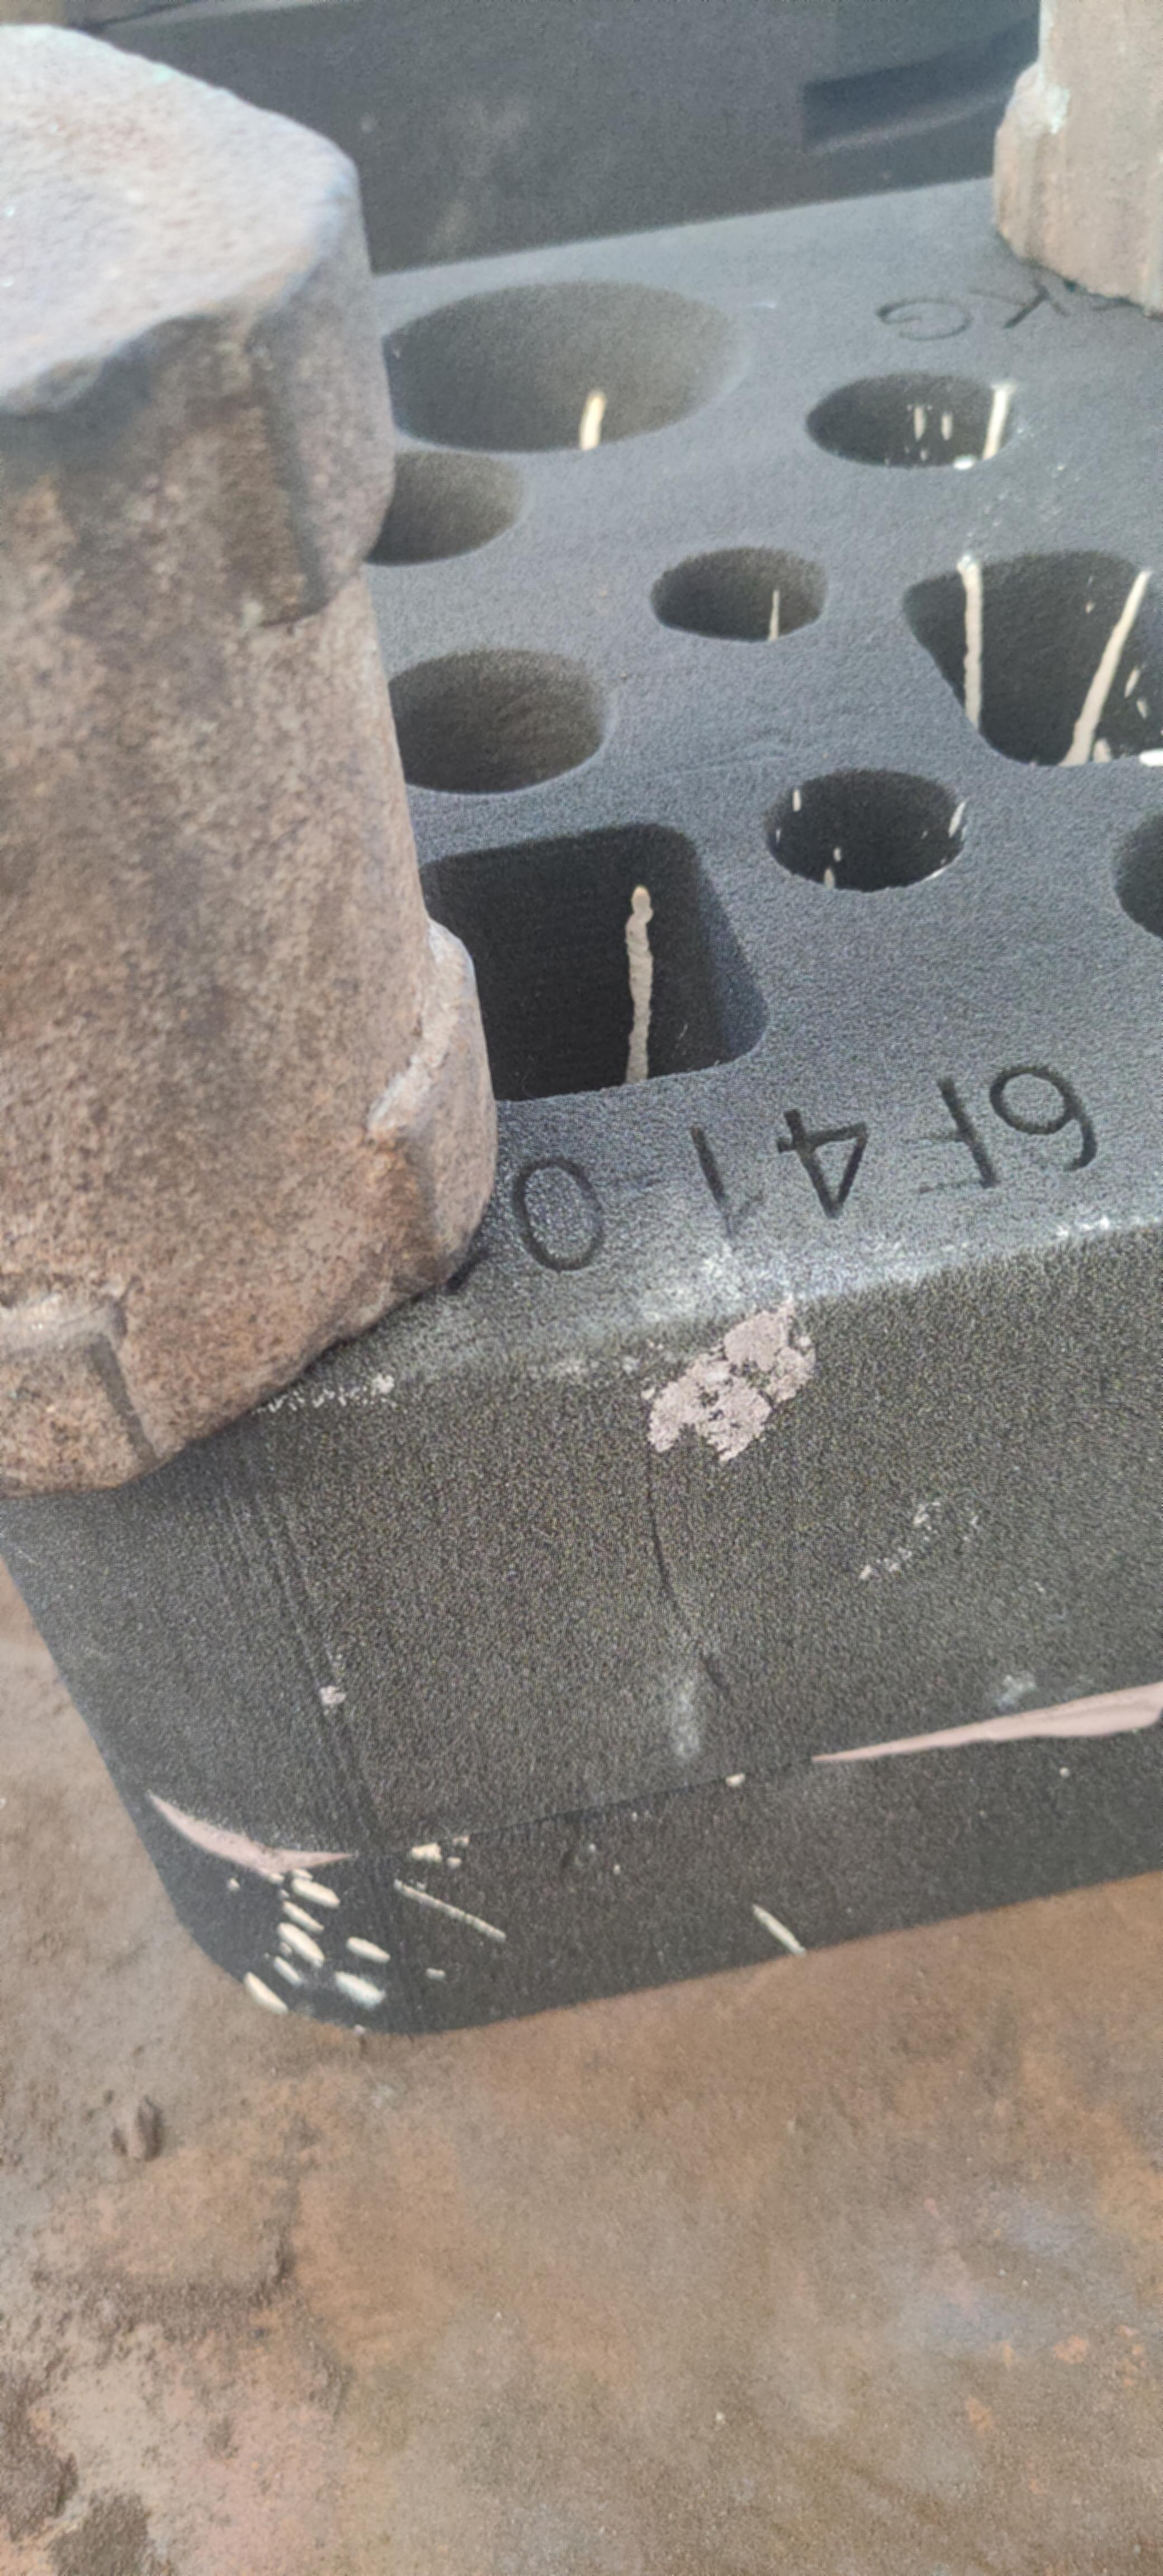pouring hole: (376, 278, 744, 460)
